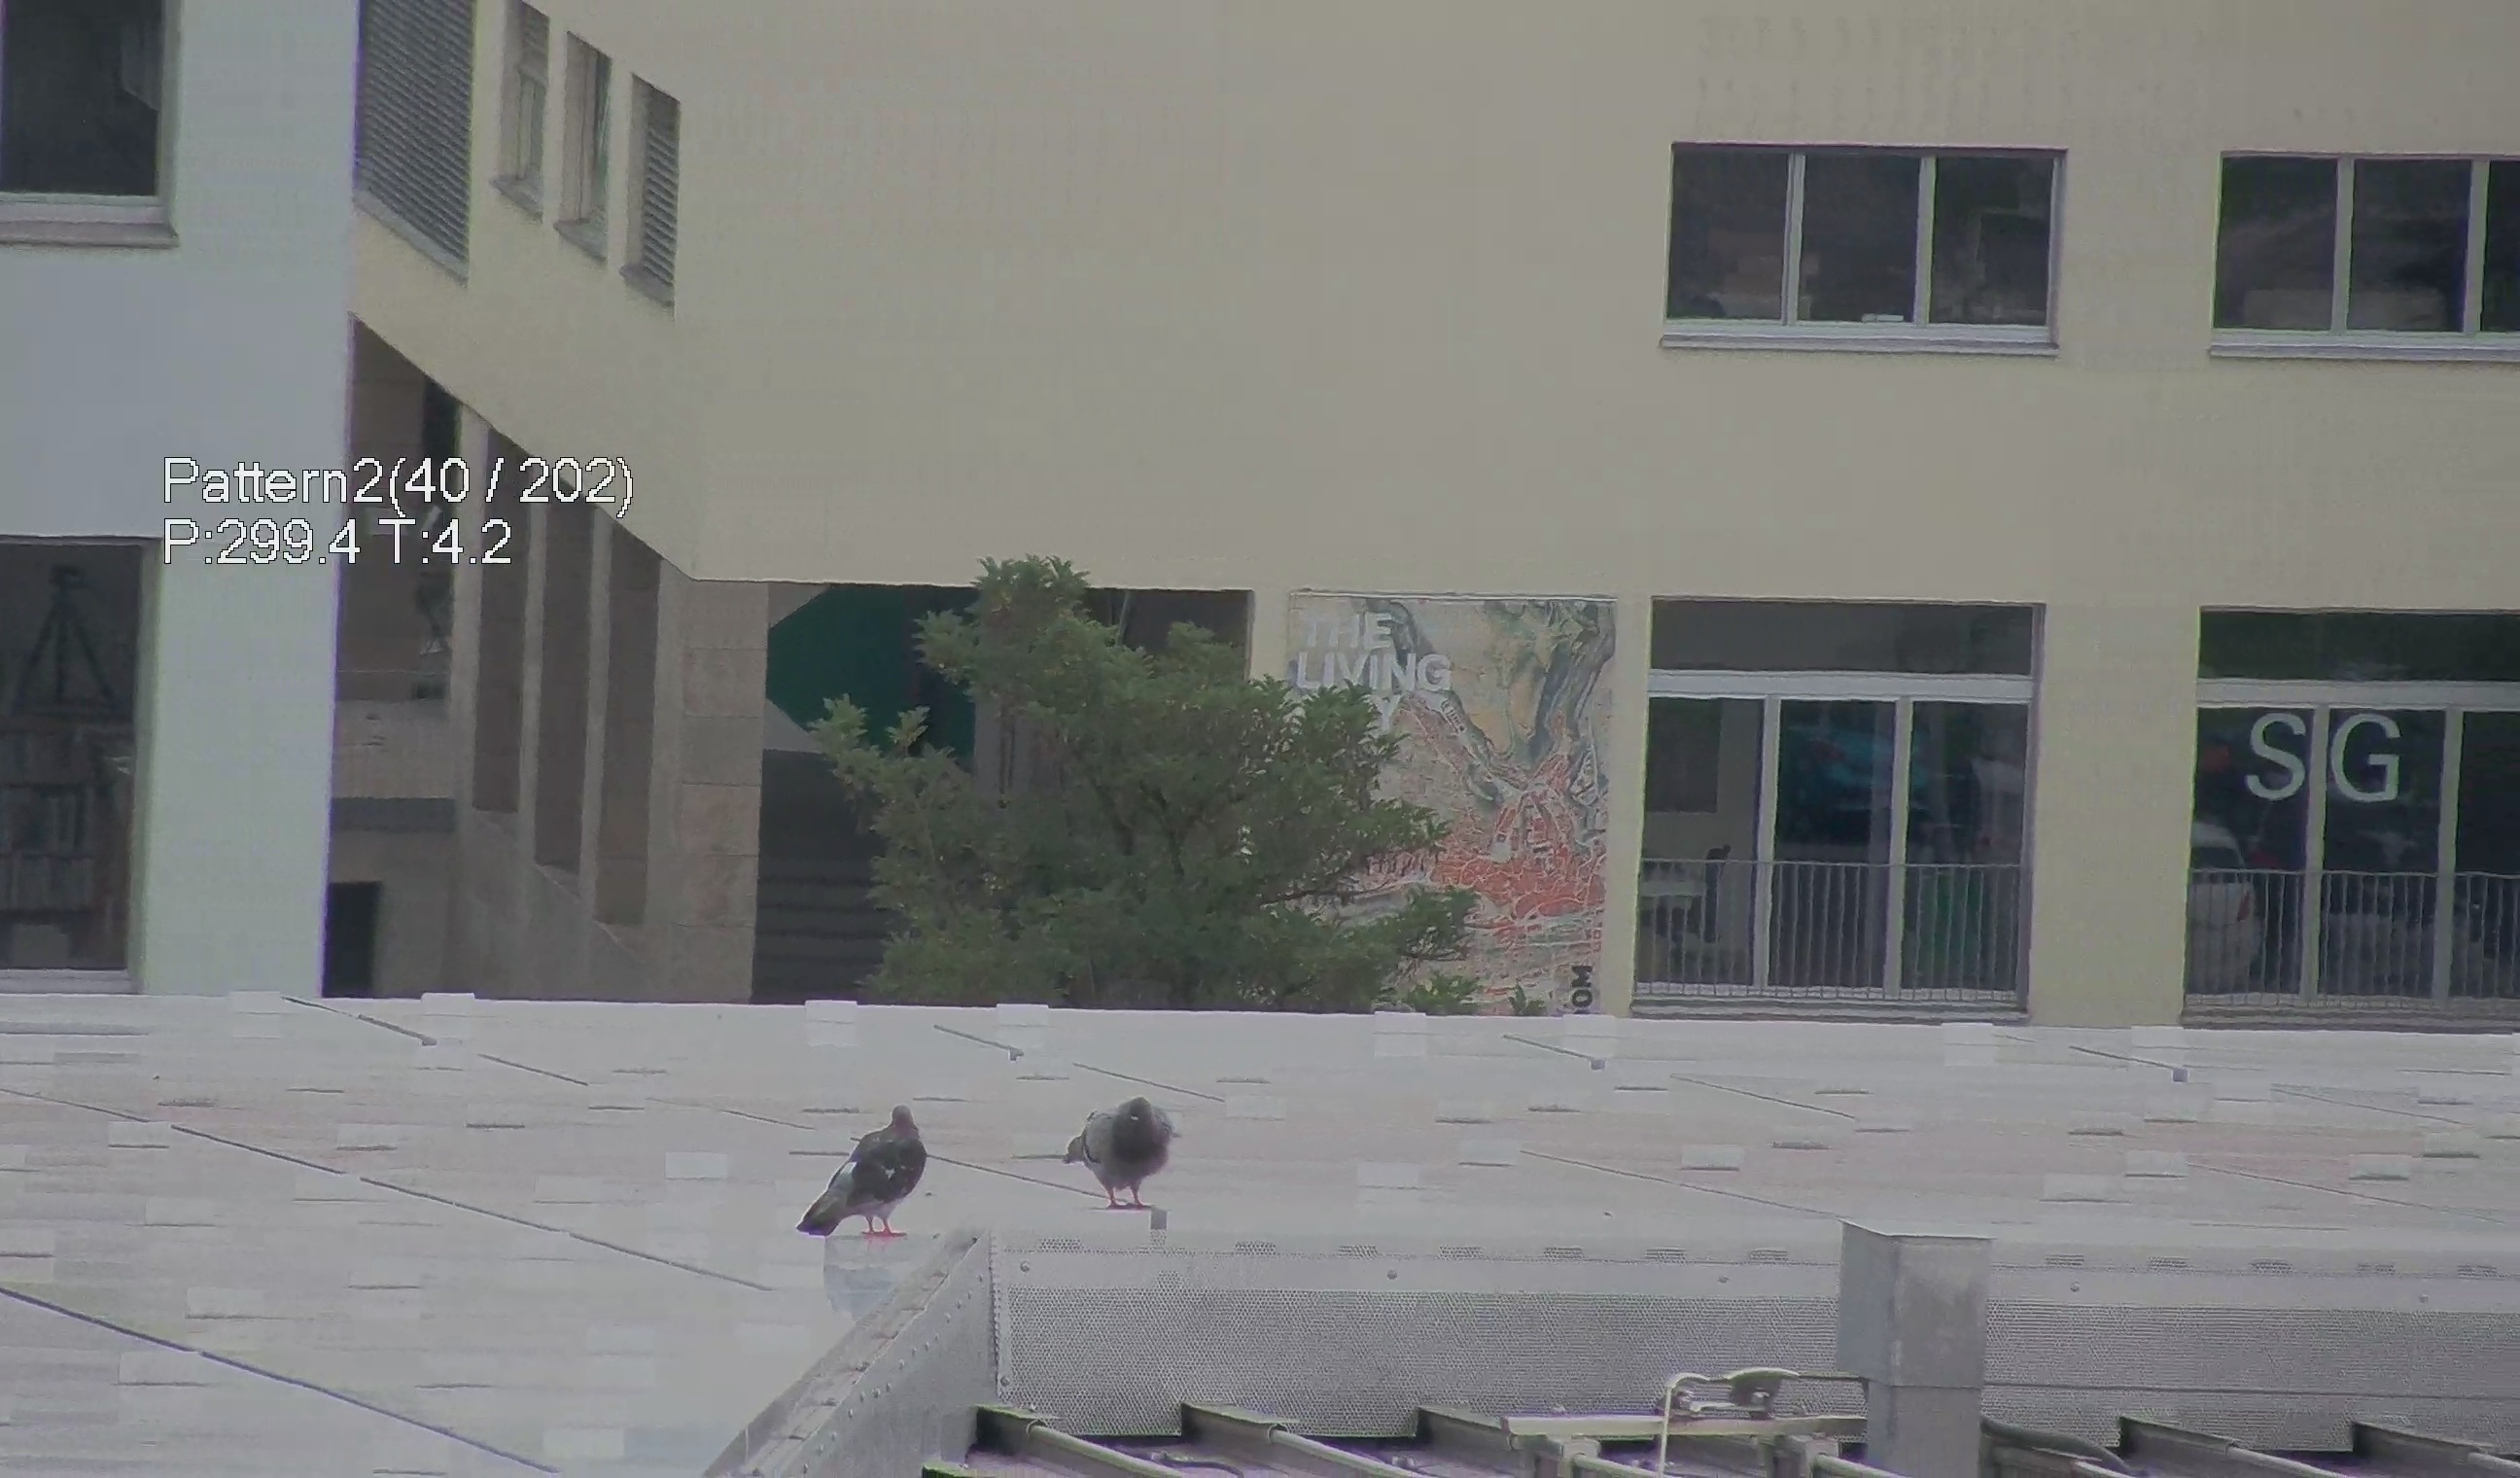Pigeon: (788, 1103, 936, 1256), (1055, 1091, 1194, 1221)
